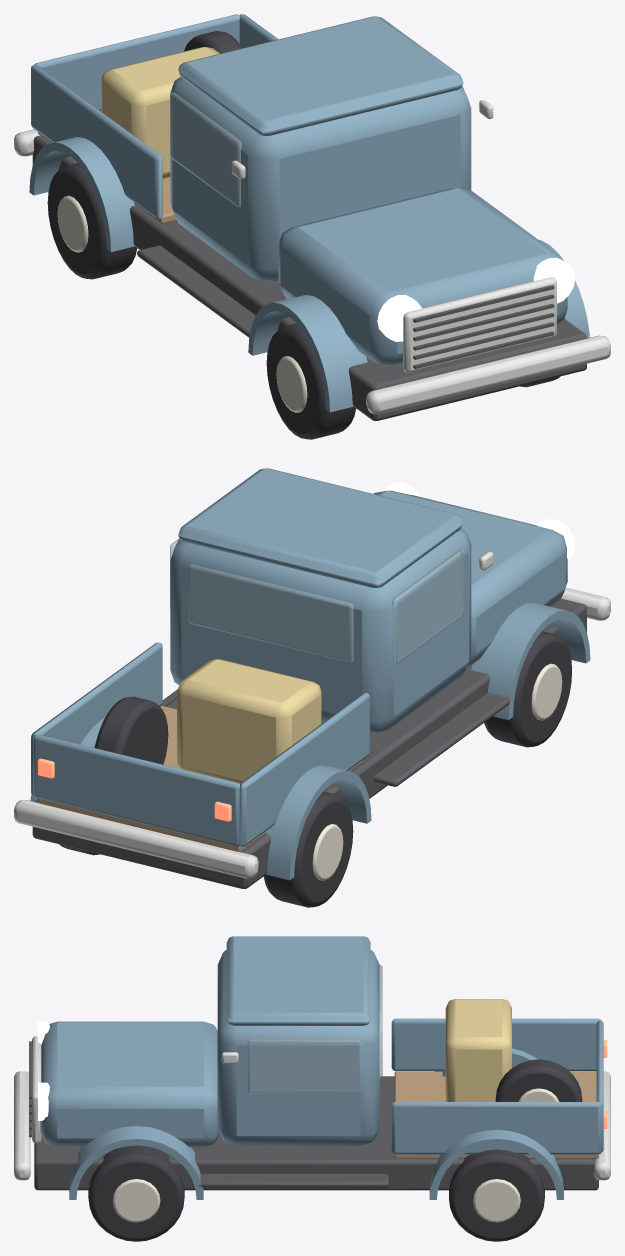
File: farm_pickup.glb
3 views of the same model, one above another, from view 1: azimuth 30°, elevation 25°; view 2: azimuth 150°, elevation 25°; view 3: azimuth 270°, elevation 25° (orthographic). The views are drawn at different scales.
Visible parts, largest first — view 1: pk_cab, pk_hood, pk_roof, pk_chassis, pk_bed_side-1, pk_grille, pk_bumper_f, pk_hay, pk_fender-1-1, pk_tailgate, pk_side_win-1, pk_fender-11 (+17 smaller); view 2: pk_cab, pk_roof, pk_hay, pk_tailgate, pk_hood, pk_backwin, pk_chassis, pk_bed_side-1, pk_bumper_r, pk_fender-1-1, pk_side_win-1, pk_bed_side1 (+9 smaller); view 3: pk_cab, pk_hood, pk_chassis, pk_roof, pk_bed_side1, pk_bed_side-1, pk_hay, pk_side_win1, pk_wheel1-1, pk_wheel11, pk_fender1-1, pk_bed_floor (+11 smaller).
Boxes of the visible parts, x1,y1,x2,y2 form: pk_cab: [170, 77, 471, 281]; pk_hood: [278, 188, 567, 365]; pk_roof: [178, 16, 463, 135]; pk_chassis: [32, 135, 586, 420]; pk_bed_side-1: [31, 65, 162, 218]; pk_grille: [403, 277, 556, 372]; pk_bumper_f: [366, 335, 610, 414]; pk_hay: [101, 47, 219, 178]; pk_fender-1-1: [248, 295, 367, 412]; pk_tailgate: [34, 14, 239, 111]; pk_side_win-1: [170, 92, 241, 206]; pk_fender-11: [29, 137, 134, 251]; pk_cab: [170, 529, 471, 733]; pk_roof: [178, 468, 463, 587]; pk_hay: [177, 659, 321, 783]; pk_tailgate: [33, 734, 239, 846]; pk_hood: [374, 490, 567, 665]; pk_backwin: [188, 564, 353, 662]; pk_chassis: [32, 598, 586, 888]; pk_bed_side-1: [239, 693, 369, 846]; pk_bumper_r: [14, 800, 258, 878]; pk_fender-1-1: [471, 602, 590, 719]; pk_side_win-1: [392, 549, 464, 664]; pk_bed_side1: [31, 642, 162, 795]; pk_cab: [217, 950, 379, 1145]; pk_hood: [40, 1021, 219, 1147]; pk_chassis: [34, 1076, 598, 1190]; pk_roof: [226, 936, 370, 1025]; pk_bed_side1: [391, 1102, 601, 1154]; pk_bed_side-1: [391, 1018, 600, 1071]; pk_hay: [445, 999, 511, 1101]; pk_side_win1: [247, 1038, 361, 1093]; pk_wheel1-1: [88, 1145, 184, 1241]; pk_wheel11: [449, 1149, 544, 1241]; pk_fender1-1: [69, 1126, 203, 1199]; pk_bed_floor: [394, 1071, 598, 1158].
Bounding box in the file's own units: 2.06 × 2.01 × 4.97.
